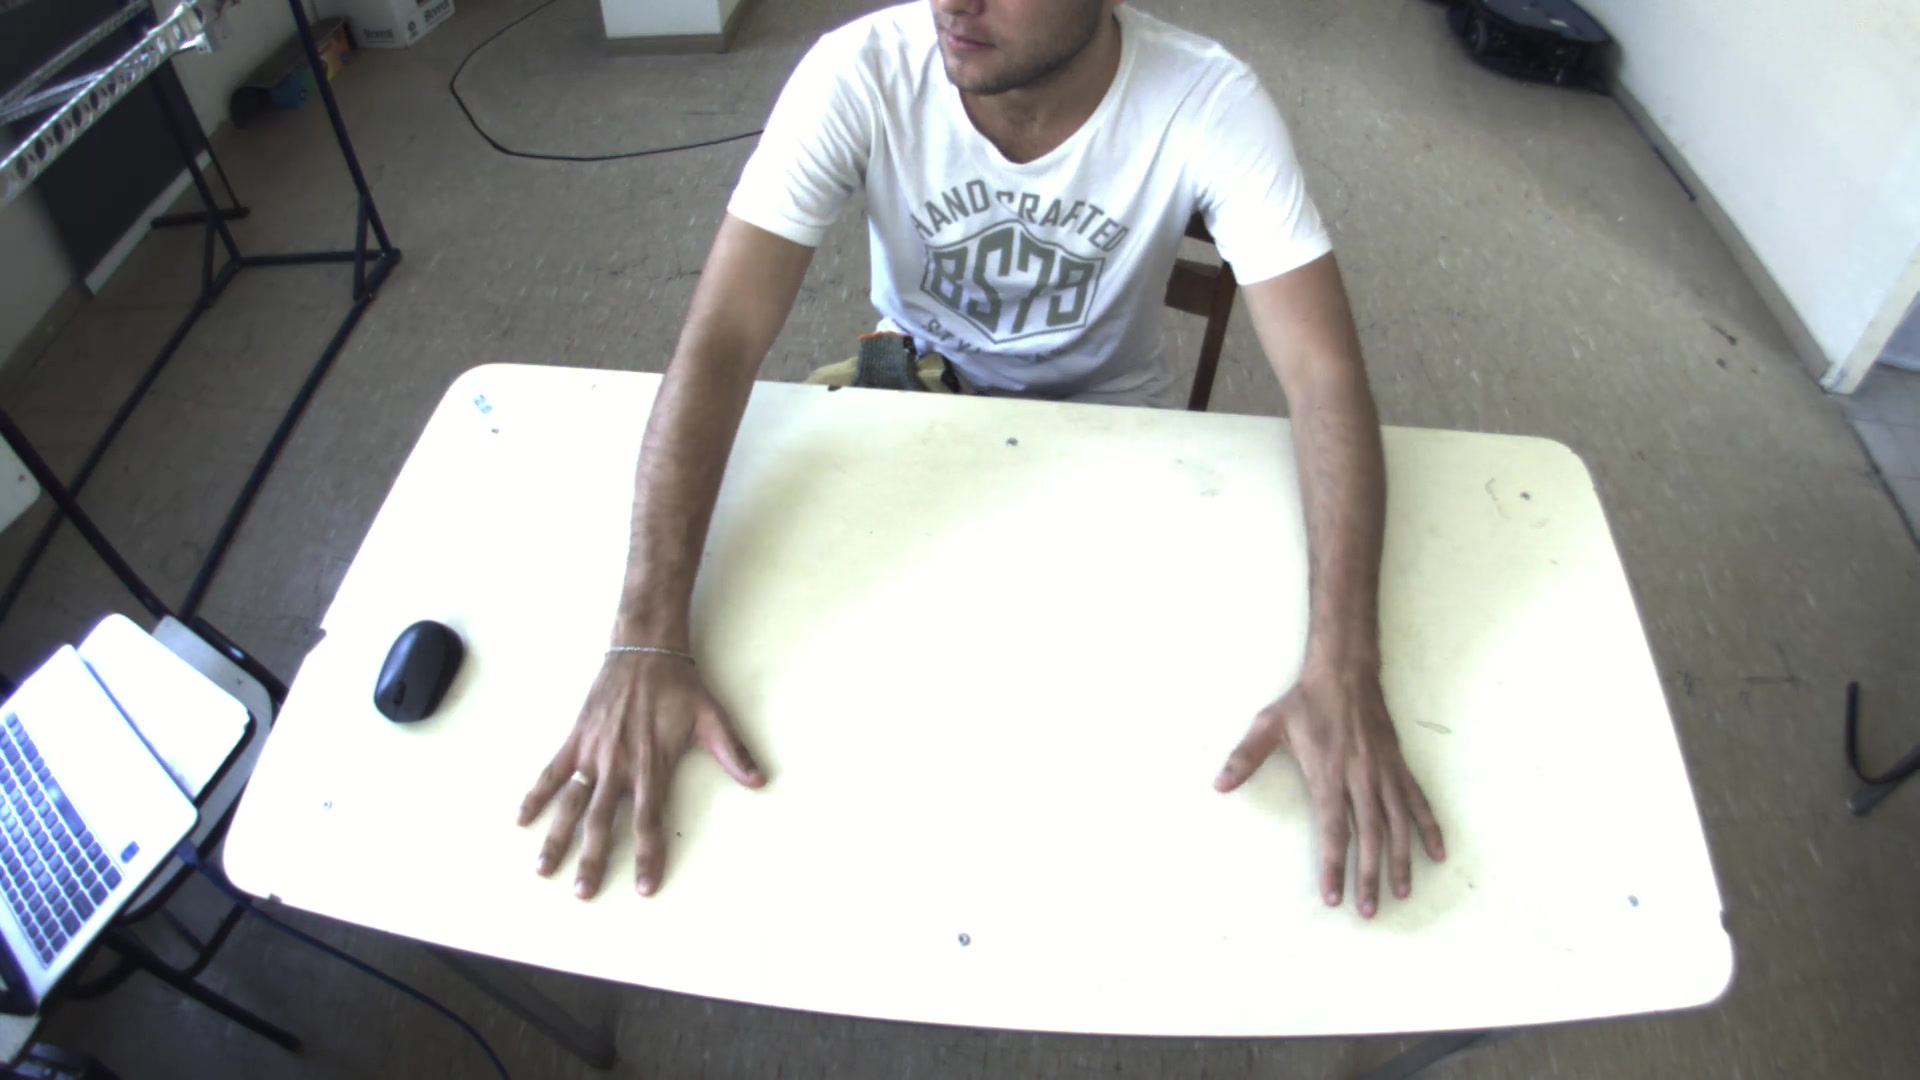hand: (496, 626, 782, 909), (1215, 645, 1477, 918)
